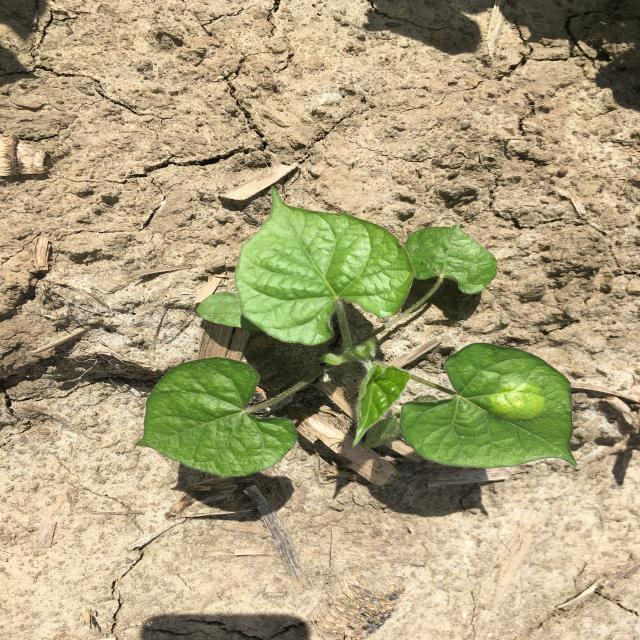MorningGlory: (133, 185, 578, 478)
